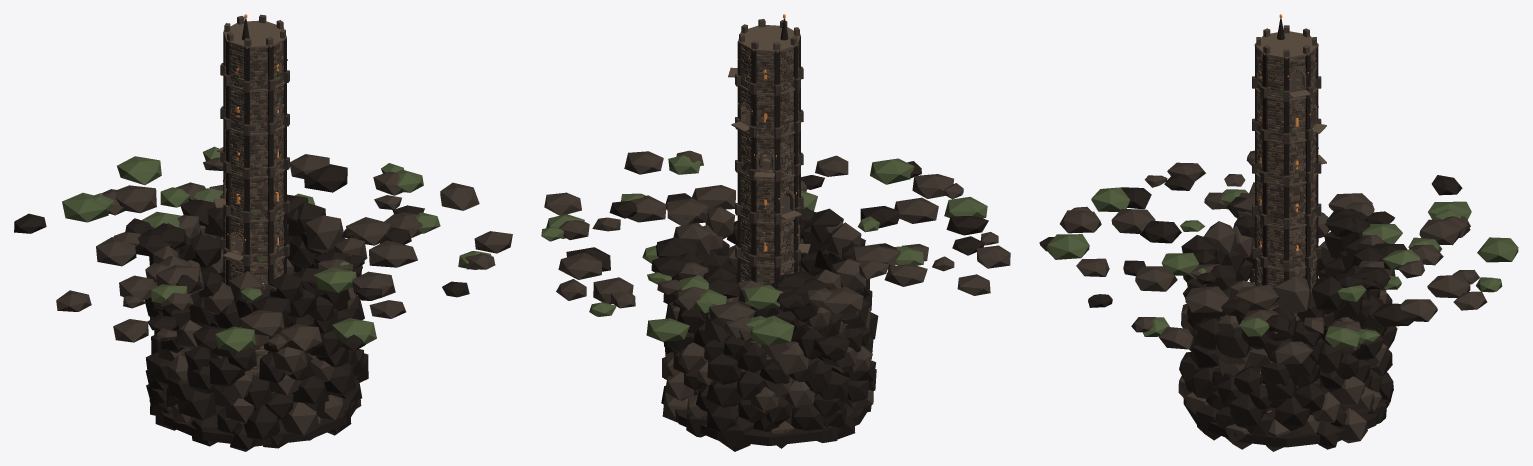
The model's file is pg-tower-v1b.glb.
The picture shows the model from 3 angles, left to right: view 1: azimuth 30°, elevation 25°; view 2: azimuth 150°, elevation 25°; view 3: azimuth 270°, elevation 25°; orthographic projection. The views are drawn at different scales.
Parts seen in each view (by area): view 1: Env_d_dark, Env_d_stone_b, Env_d_moss, Ch0_d_stone_c, Ch0_d_stone_b, Ch1_d_stone_b, Ch0_d_stone_a, Ch2_d_stone_b, Ch3_d_stone_b, Ch4_d_stone_b, Ch4_d_stone_c, Ch0_d_dark (+11 smaller); view 2: Env_d_stone_b, Env_d_dark, Env_d_moss, Ch0_d_stone_c, Ch0_d_stone_a, Ch1_d_stone_b, Ch4_d_stone_b, Ch3_d_stone_b, Ch0_d_stone_b, Ch4_d_stone_c, Ch2_d_stone_b, Ch1_d_stone_c (+11 smaller); view 3: Env_d_dark, Env_d_stone_b, Env_d_moss, Ch0_d_stone_c, Ch3_d_stone_b, Ch4_d_stone_b, Ch2_d_stone_b, Ch1_d_stone_c, Ch0_d_stone_a, Ch0_d_stone_b, Ch2_d_stone_c, Ch1_d_stone_b (+11 smaller).
Part boxes in pixels (box(x1,y1,x2,y2)): Env_d_dark: box(14, 164, 469, 451); Env_d_stone_b: box(56, 154, 512, 440); Env_d_moss: box(62, 146, 491, 351); Ch0_d_stone_c: box(223, 20, 287, 88); Ch0_d_stone_b: box(220, 38, 289, 92); Ch1_d_stone_b: box(220, 85, 289, 135); Ch0_d_stone_a: box(224, 14, 285, 89); Ch2_d_stone_b: box(220, 129, 289, 179); Ch3_d_stone_b: box(220, 172, 289, 222); Ch4_d_stone_b: box(220, 216, 289, 266); Ch4_d_stone_c: box(222, 212, 284, 263); Ch0_d_dark: box(223, 18, 286, 81); Env_d_stone_b: box(544, 150, 1010, 448); Env_d_dark: box(566, 161, 988, 451); Env_d_moss: box(541, 155, 987, 345); Ch0_d_stone_c: box(728, 25, 800, 92); Ch0_d_stone_a: box(739, 19, 799, 91); Ch1_d_stone_b: box(735, 90, 803, 138); Ch4_d_stone_b: box(735, 217, 803, 267); Ch3_d_stone_b: box(735, 174, 803, 224); Ch0_d_stone_b: box(735, 43, 803, 95); Ch4_d_stone_c: box(739, 214, 810, 265); Ch2_d_stone_b: box(735, 132, 803, 181); Ch1_d_stone_c: box(731, 85, 799, 136); Env_d_dark: box(1039, 174, 1462, 449); Env_d_stone_b: box(1060, 150, 1487, 451); Env_d_moss: box(1046, 187, 1518, 347); Ch0_d_stone_c: box(1254, 31, 1318, 98); Ch3_d_stone_b: box(1252, 176, 1321, 229); Ch4_d_stone_b: box(1252, 218, 1321, 271); Ch2_d_stone_b: box(1252, 134, 1321, 186); Ch1_d_stone_c: box(1255, 88, 1326, 141); Ch0_d_stone_a: box(1256, 25, 1316, 98); Ch0_d_stone_b: box(1252, 49, 1321, 101); Ch2_d_stone_c: box(1255, 130, 1326, 183); Ch1_d_stone_b: box(1252, 92, 1321, 144).
Size of the model in its own units: 104 by 94.33 by 102.
